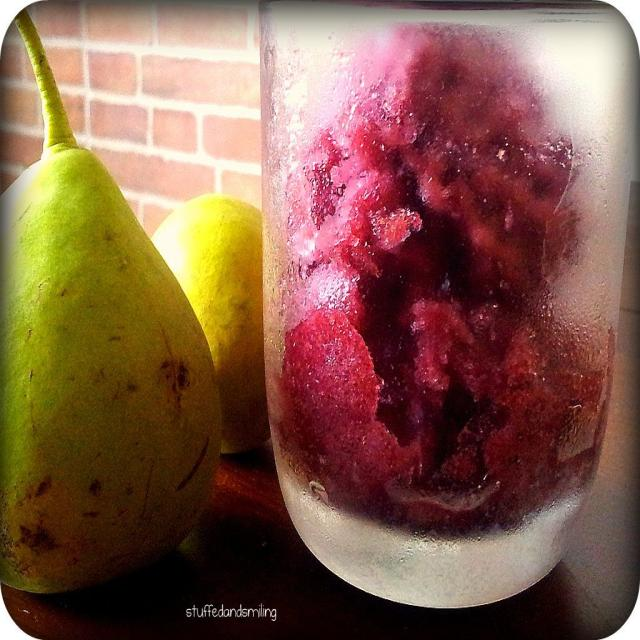pear: (0, 8, 221, 595)
